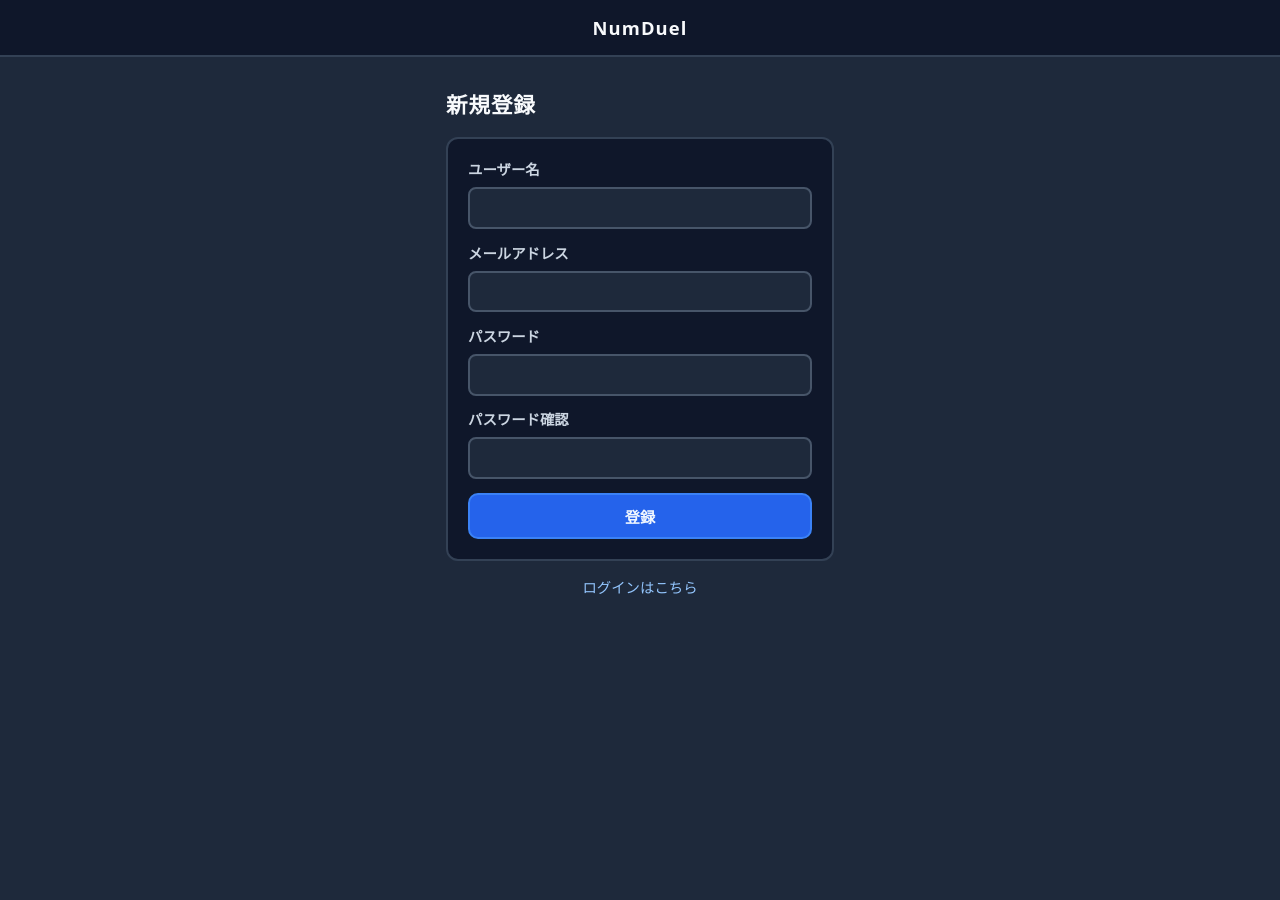
RegisterPage › shows api error
Type "alice" into the field labelled "ユーザー名".
click(640, 208); type("alice")  # box [468,187,812,229]
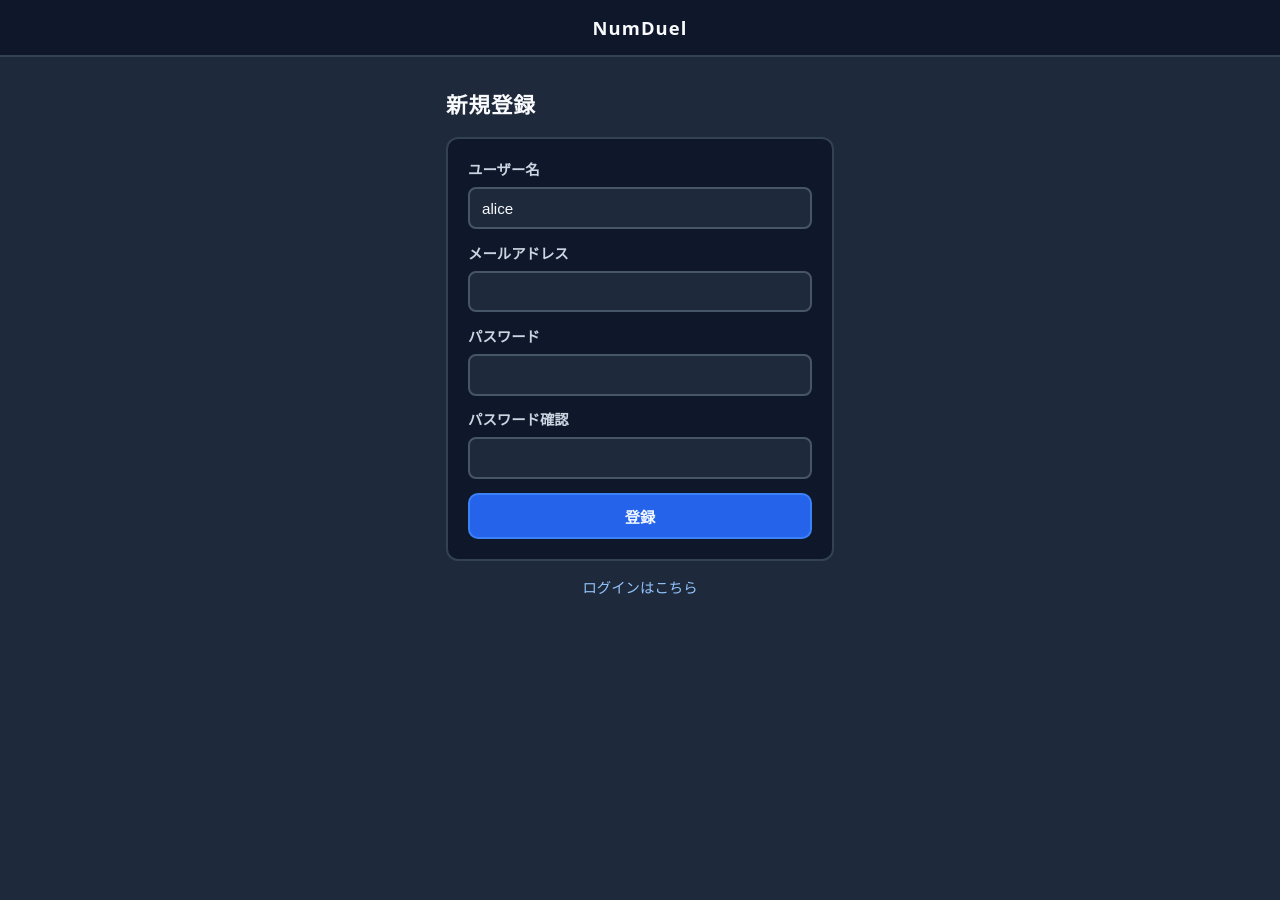
Type "a@test.local" into the field labelled "メールアドレス".
click(640, 292); type("a@test.local")  # box [468,271,812,312]
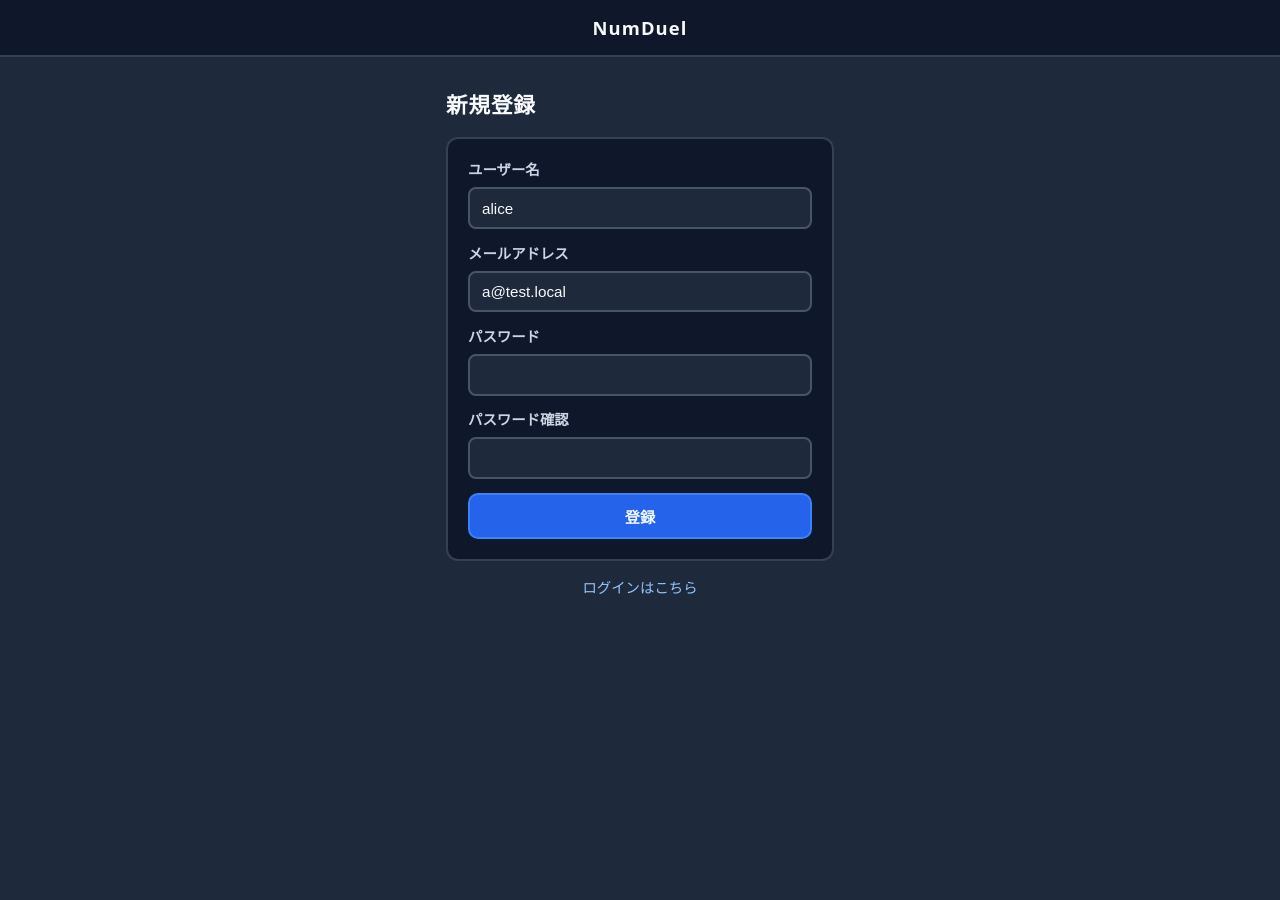
Type "password123" into the password field labelled "パスワード".
click(640, 375); type("password123")  # box [468,354,812,396]
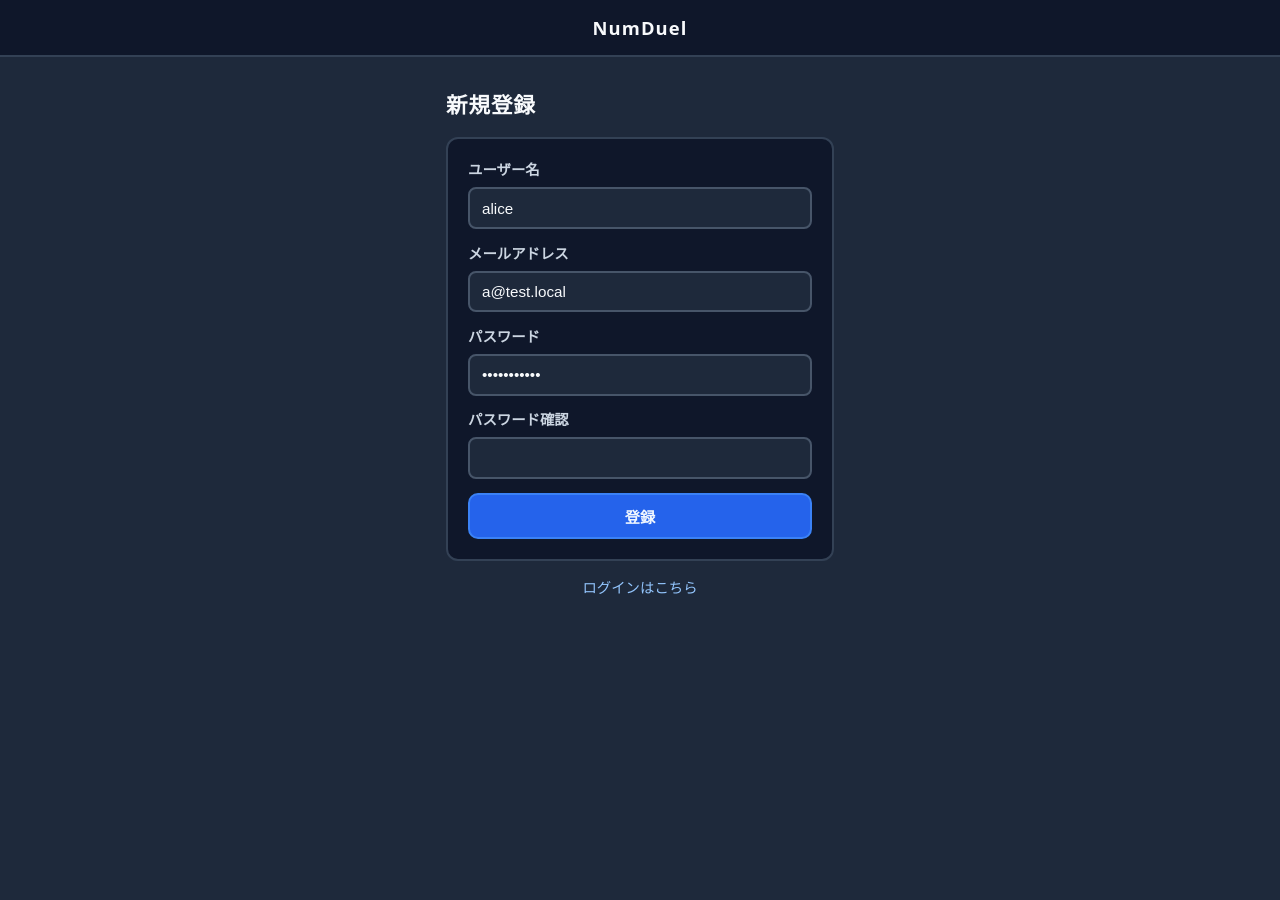
Type "password123" into the password field labelled "パスワード確認".
click(640, 458); type("password123")  # box [468,437,812,479]
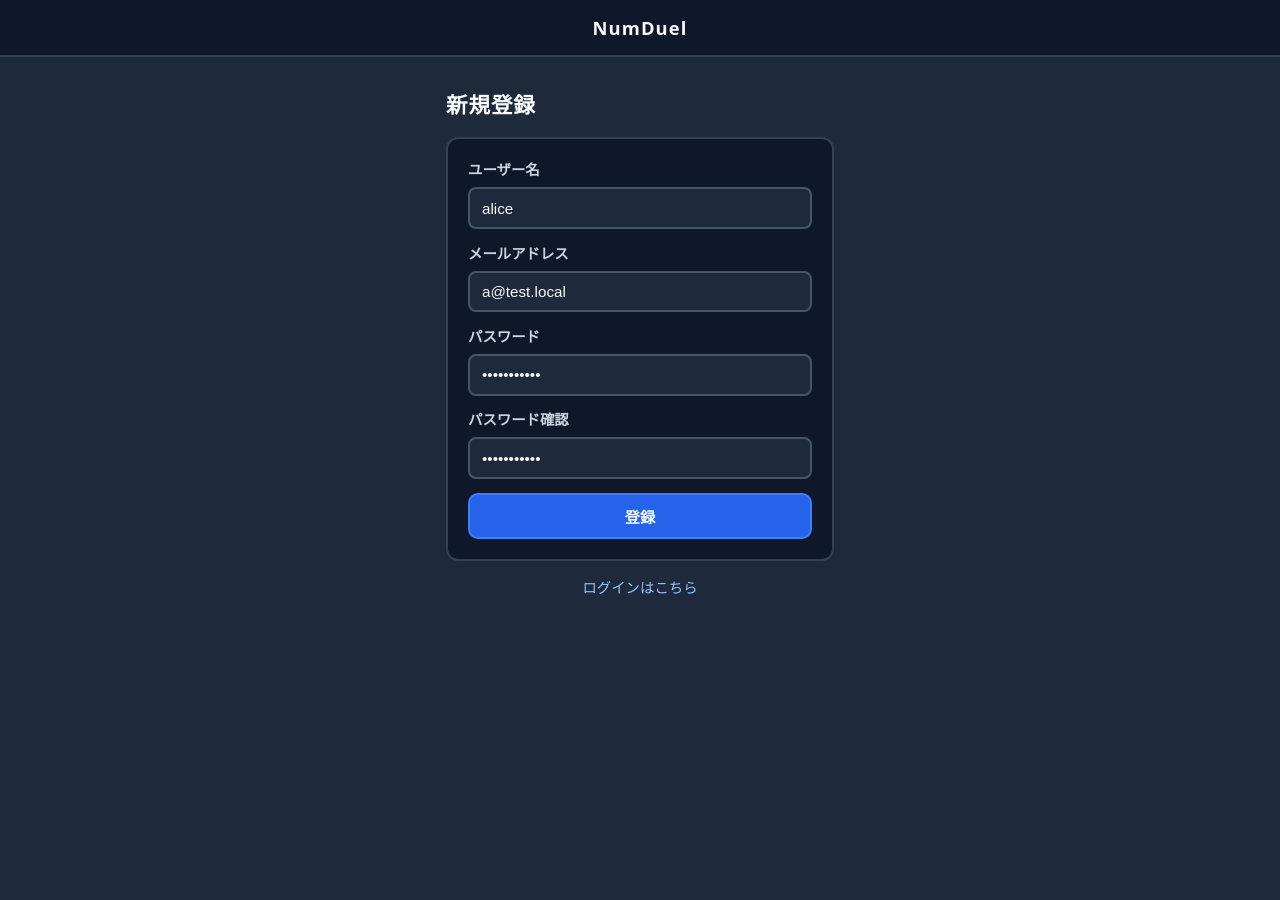
Click the button "登録".
click(640, 516)  # box [468,493,812,540]
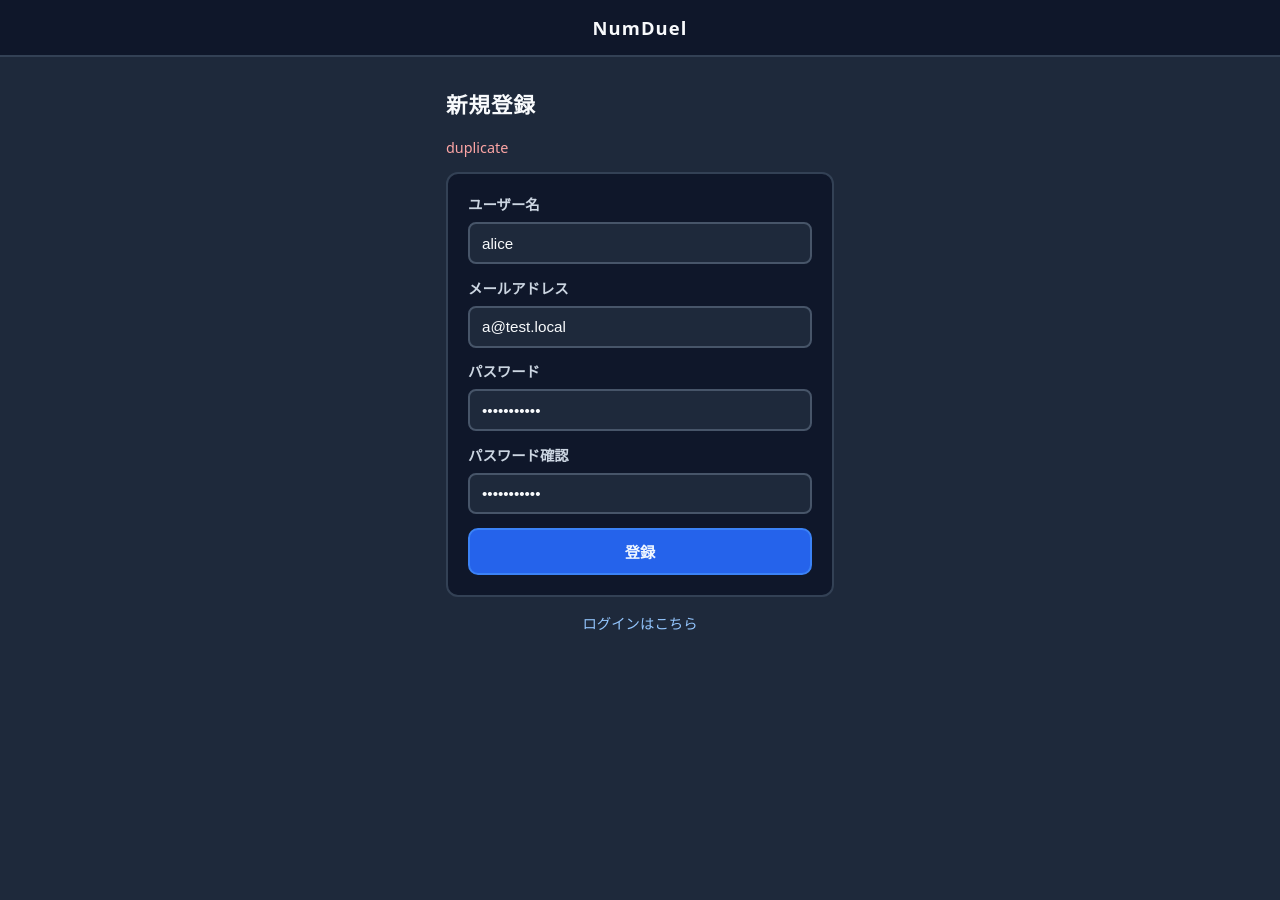
expect the text "duplicate" is shown: met, box [446,138,508,157]
